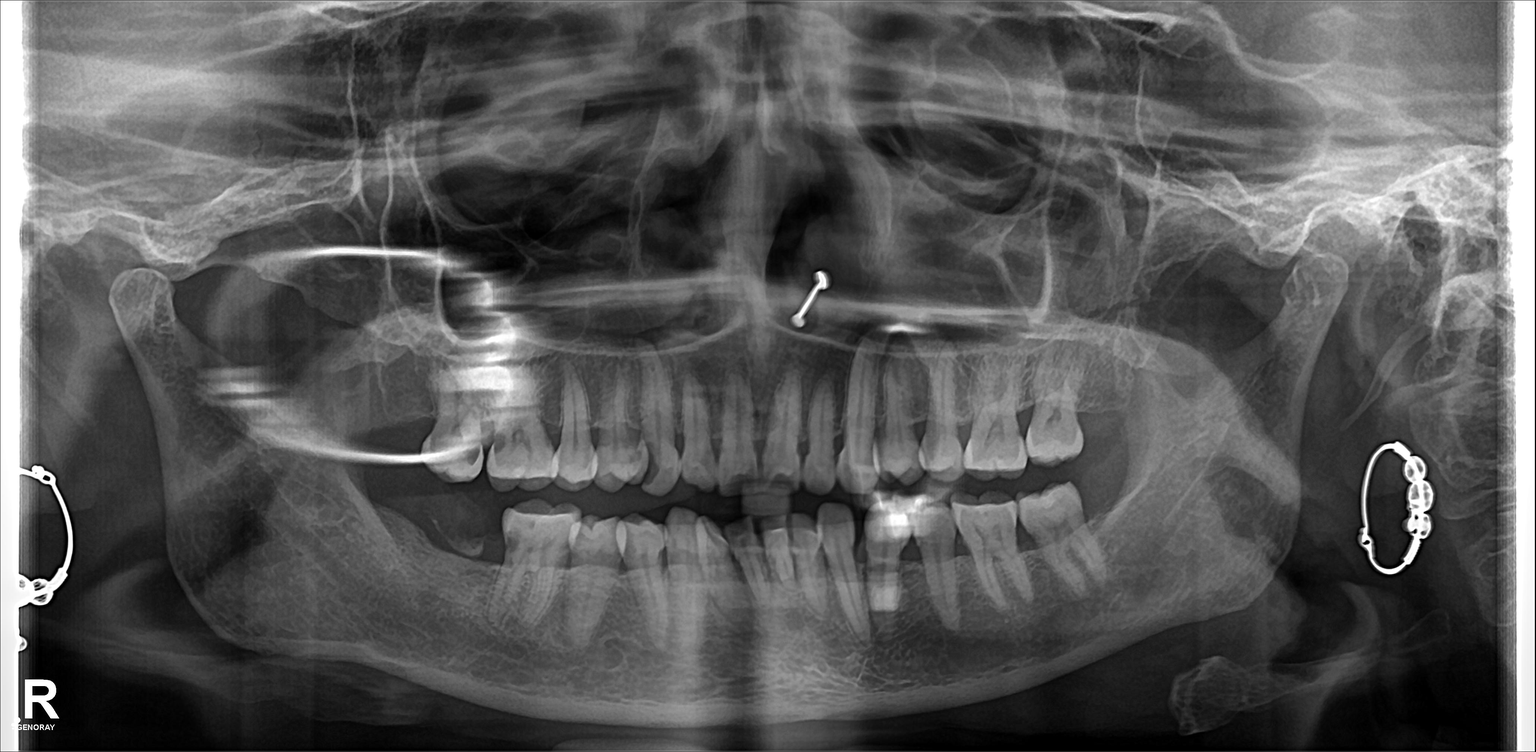Missing Tooth: (365, 504, 416, 579), (417, 512, 471, 581), (1071, 361, 1117, 439), (467, 508, 508, 588), (352, 380, 390, 460), (1095, 469, 1131, 553), (387, 387, 425, 457)
